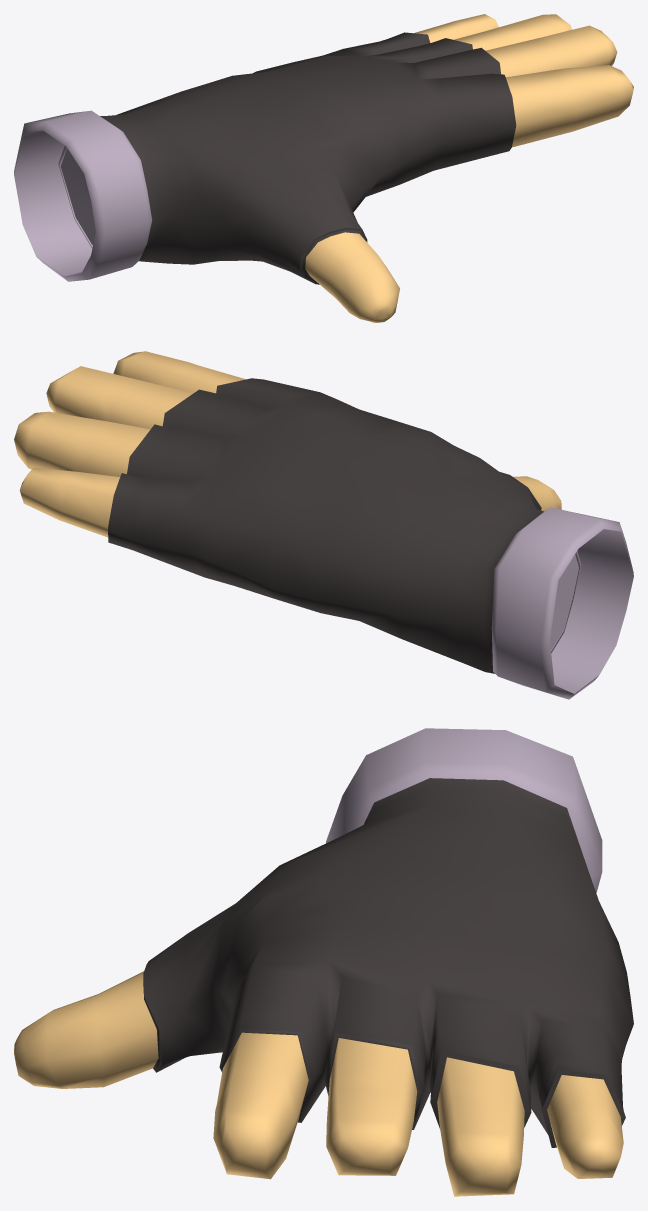
File: Left_Arm_03_02.fbx
3 views of the same model, one above another, from view 1: azimuth 30°, elevation 25°; view 2: azimuth 150°, elevation 25°; view 3: azimuth 270°, elevation 25° (orthographic). The views are drawn at different scales.
Visible parts, largest first — view 1: Left_Arm_03_02; view 2: Left_Arm_03_02; view 3: Left_Arm_03_02.
Part boxes in pixels (x1,y1,x2,y2): Left_Arm_03_02: [14, 14, 633, 322]; Left_Arm_03_02: [14, 351, 633, 699]; Left_Arm_03_02: [14, 728, 633, 1196].
Bounding box in the file's own units: 26.07 × 7.21 × 16.87.
